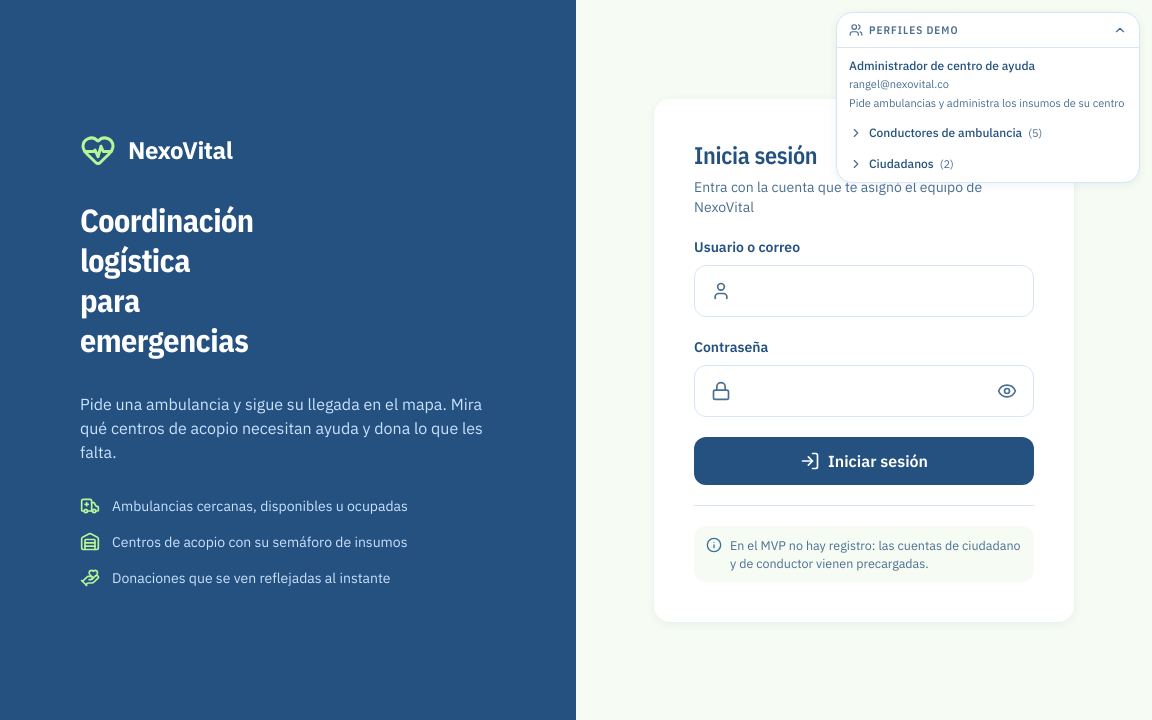
LoginPage › blocks an administrator whose role has no screen and explains why
Type "conductor1@nexovital.co" into the field labelled "Usuario o correo".
click(880, 290); type("conductor1@nexovital.co")  # box [743,266,1017,316]
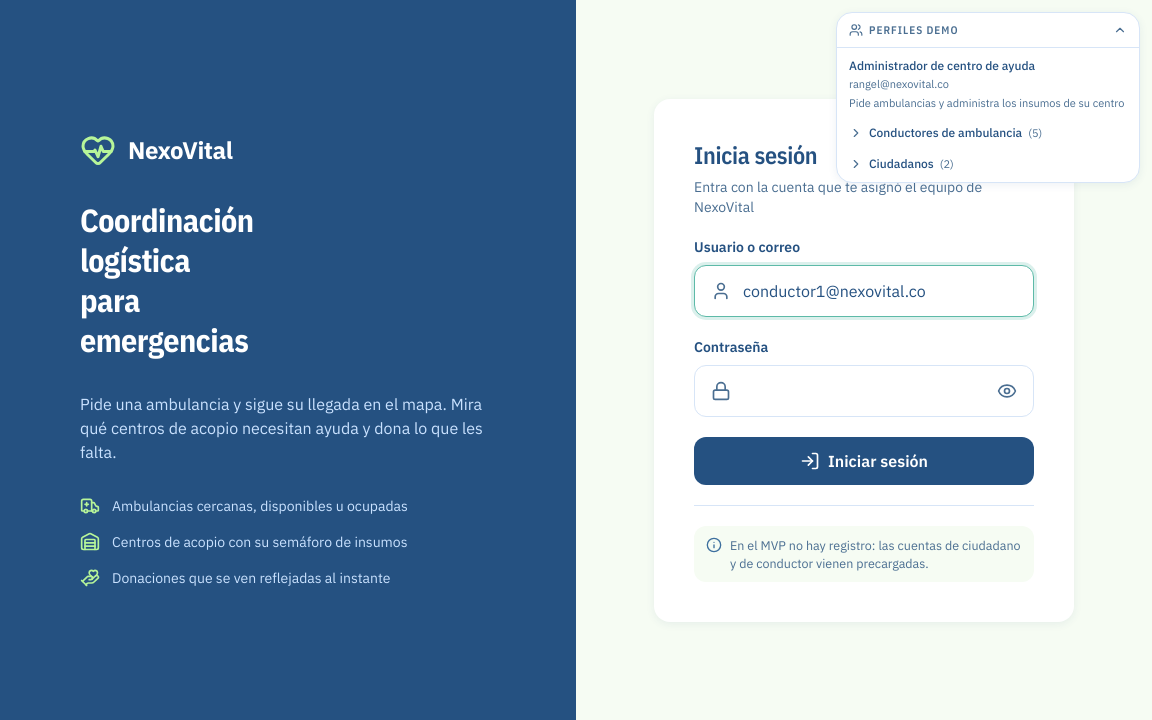
Type "conductor123" into the password field labelled "Contraseña".
click(864, 390); type("conductor123")  # box [743,366,985,416]
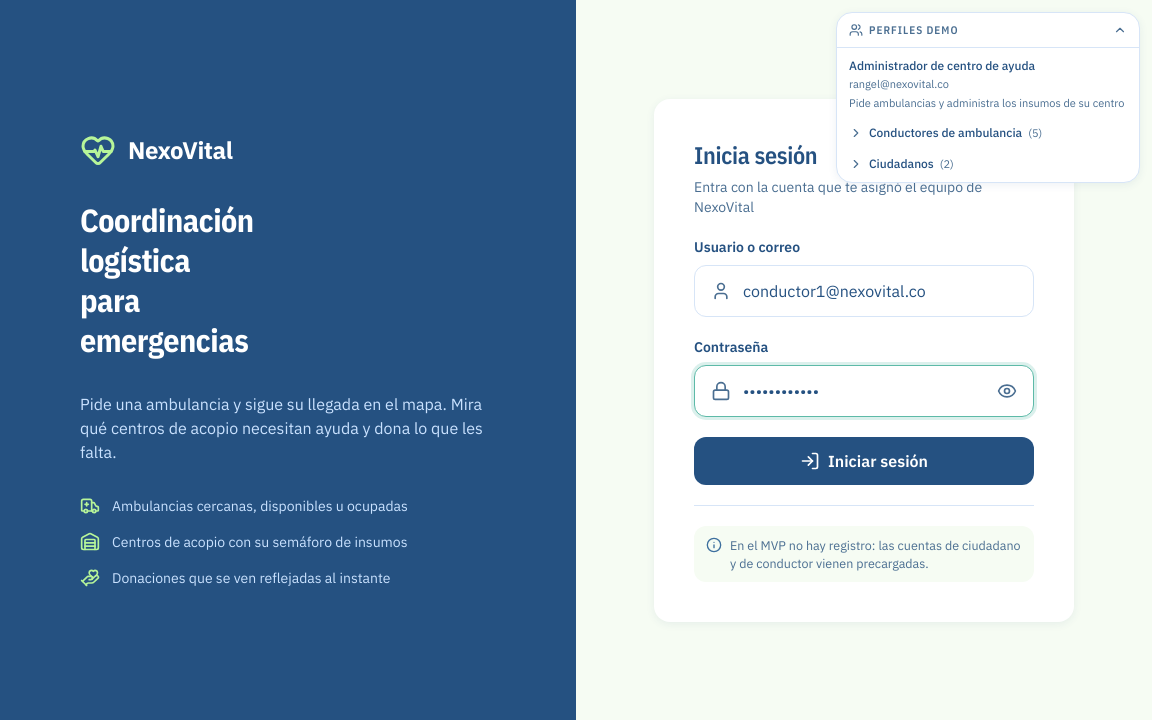
Click the button "Iniciar sesión".
click(864, 460)  # box [694,436,1034,484]
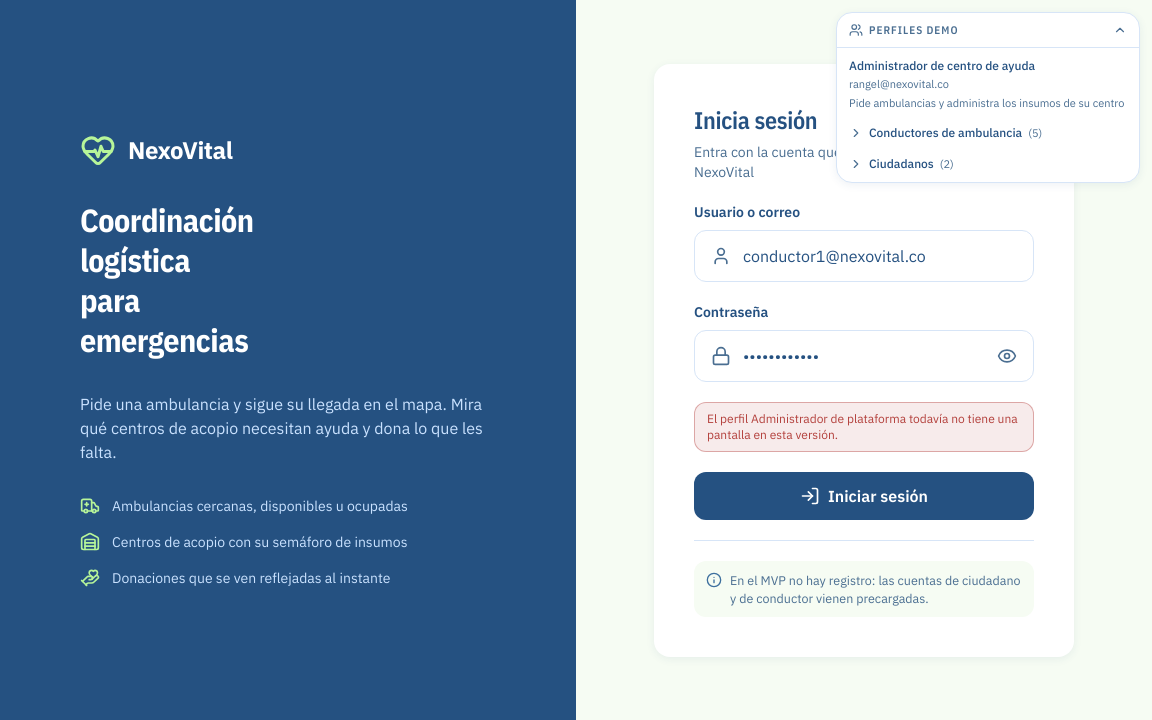
Check: the message shows "El perfil Administrador de plataforma todavía no tiene una pantalla en esta versión.", box [707,410,1018,442]
